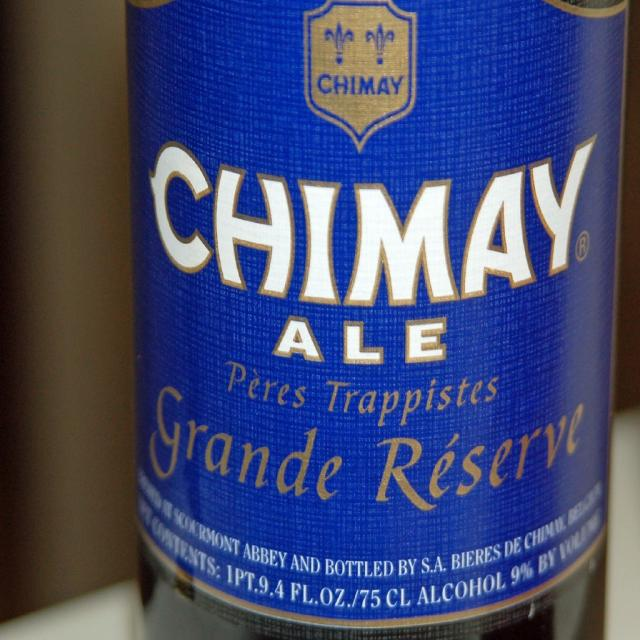chimay: (128, 2, 628, 631)
